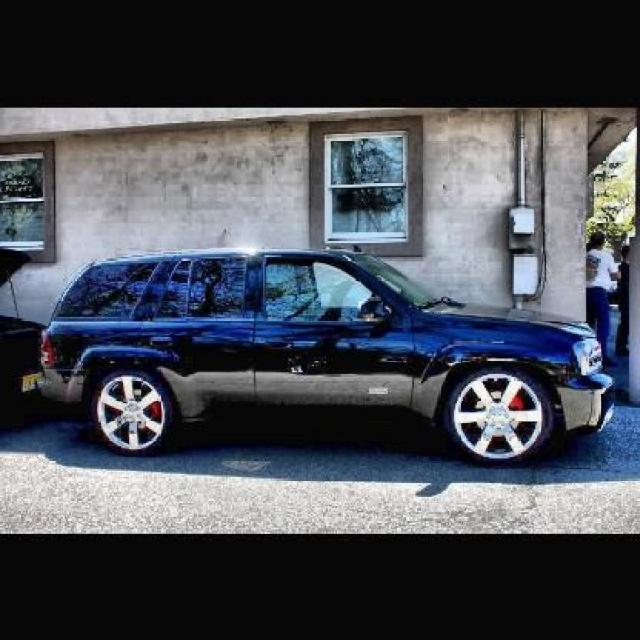black: (46, 235, 598, 458)
